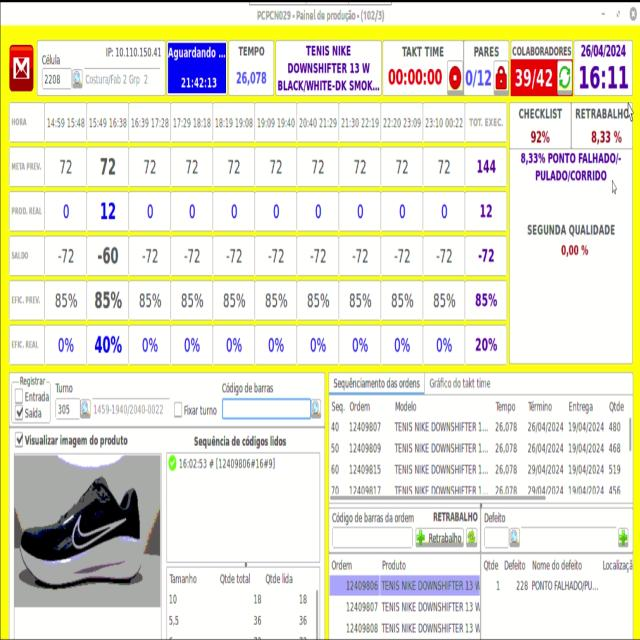takt_time: (385, 43, 447, 93)
